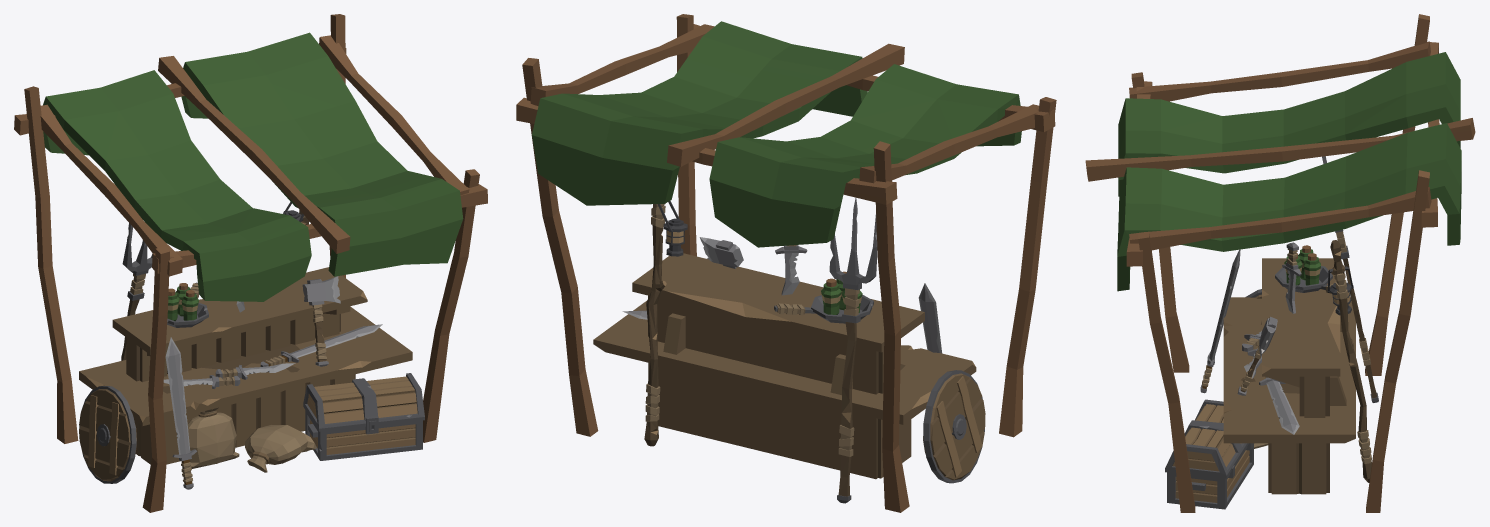
Rendered from SM_Bld_Stall_04.gltf.
The picture shows the model from 3 angles, left to right: view 1: azimuth 30°, elevation 25°; view 2: azimuth 150°, elevation 25°; view 3: azimuth 270°, elevation 25°; orthographic projection. The views are drawn at different scales.
Parts seen in each view (by area): view 1: SM_Bld_Stall_04; view 2: SM_Bld_Stall_04; view 3: SM_Bld_Stall_04.
Boxes of the visible parts, left/top/right/bottom form: SM_Bld_Stall_04: left=14, top=14, right=487, bottom=512; SM_Bld_Stall_04: left=516, top=14, right=1056, bottom=512; SM_Bld_Stall_04: left=1085, top=14, right=1475, bottom=512.
Size of the model in its own units: 3 by 3.02 by 2.99.
Materials: 1 (1 with a texture image).
